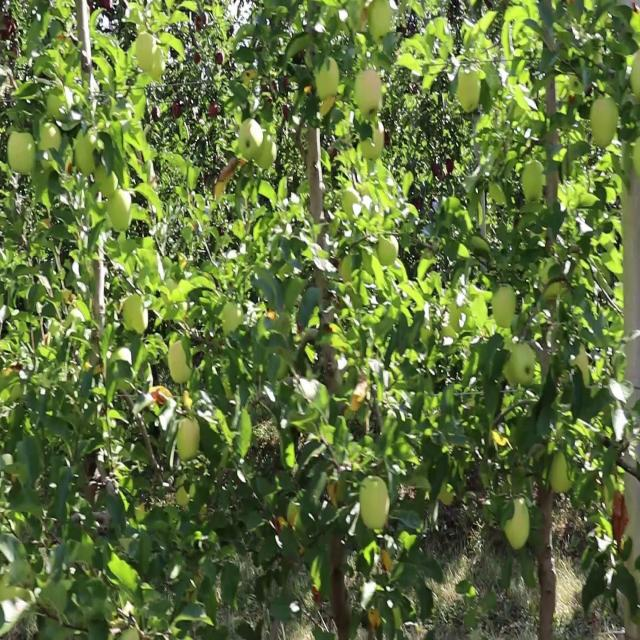apple: (360, 483, 391, 533), (592, 99, 620, 149), (504, 504, 531, 551), (356, 71, 383, 116), (8, 135, 36, 178), (456, 71, 482, 114), (176, 419, 201, 462), (168, 341, 193, 384), (492, 284, 517, 325), (108, 191, 132, 233), (552, 455, 573, 496), (524, 163, 545, 204), (136, 35, 158, 73), (612, 497, 629, 546), (369, 7, 392, 41), (40, 120, 63, 151), (364, 127, 384, 160), (352, 376, 369, 412), (148, 56, 167, 85), (628, 56, 640, 100), (552, 135, 568, 164), (328, 483, 342, 508), (4, 14, 15, 43), (368, 611, 382, 633), (632, 142, 640, 180), (184, 391, 196, 412), (196, 14, 208, 30), (208, 106, 219, 121), (172, 106, 183, 121), (448, 156, 456, 176), (432, 163, 442, 178), (216, 56, 224, 64), (268, 312, 276, 320)
